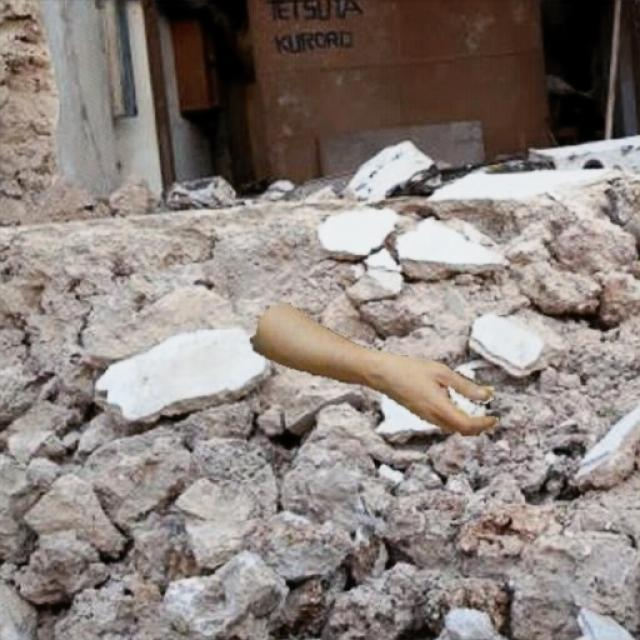Person in Rubble: (250, 302, 498, 436)
